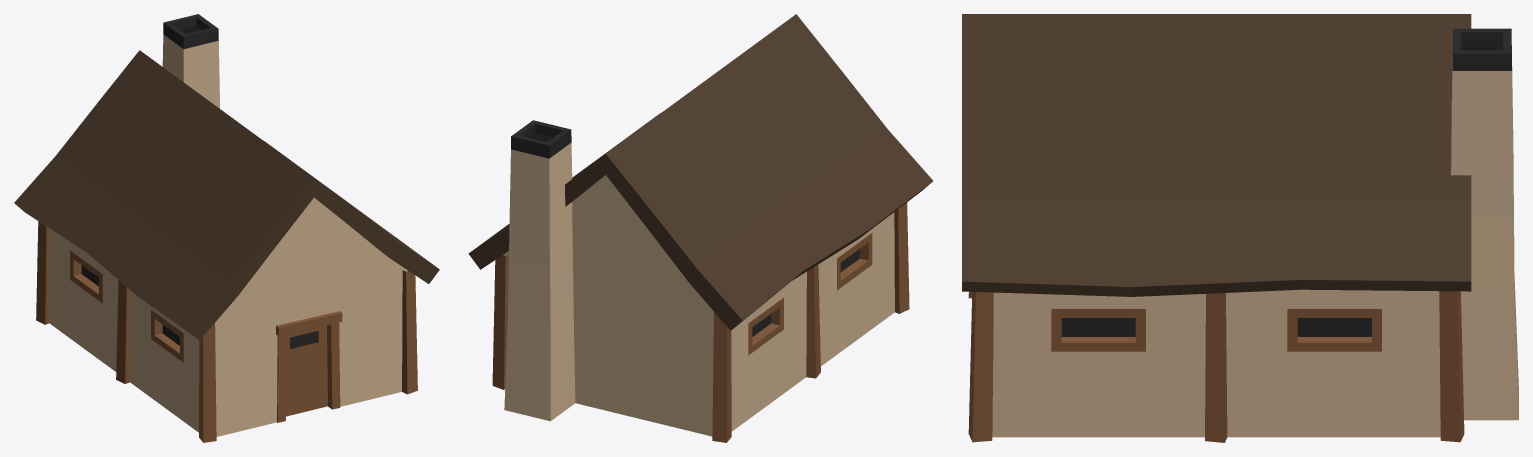
The model's file is medieval_house-medieval_small.fbx.
The picture shows the model from 3 angles, left to right: view 1: azimuth 30°, elevation 25°; view 2: azimuth 150°, elevation 25°; view 3: azimuth 270°, elevation 25°; orthographic projection. The views are drawn at different scales.
Visible parts, largest first — view 1: medieval_house_medieval_small; view 2: medieval_house_medieval_small; view 3: medieval_house_medieval_small.
Part boxes in pixels (x1=…): medieval_house_medieval_small: x1=14, y1=14, x2=439, y2=442; medieval_house_medieval_small: x1=468, y1=14, x2=932, y2=442; medieval_house_medieval_small: x1=962, y1=14, x2=1518, y2=442.
Bounding box in the file's own units: 154 × 144 × 200.
